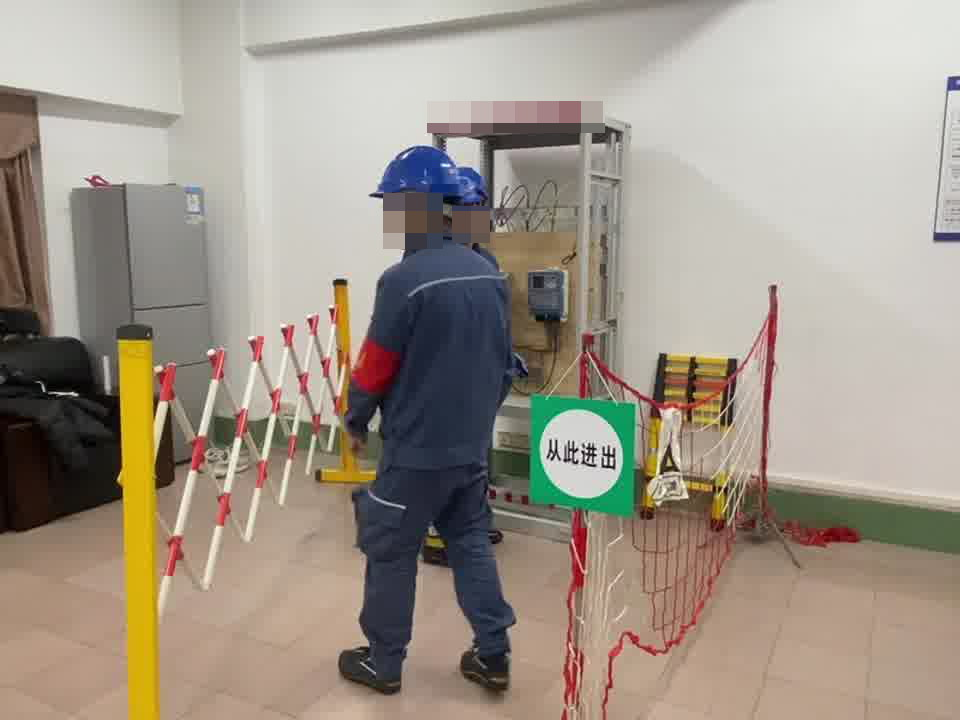badge: (351, 337, 404, 396)
downsuit: (353, 476, 515, 661)
halt: (370, 144, 492, 247), (442, 164, 491, 233)
hand: (342, 434, 378, 465)
inear: (399, 195, 434, 234)
intosign: (529, 395, 635, 515)
person: (335, 141, 529, 691)
upsuit: (341, 236, 525, 469)
